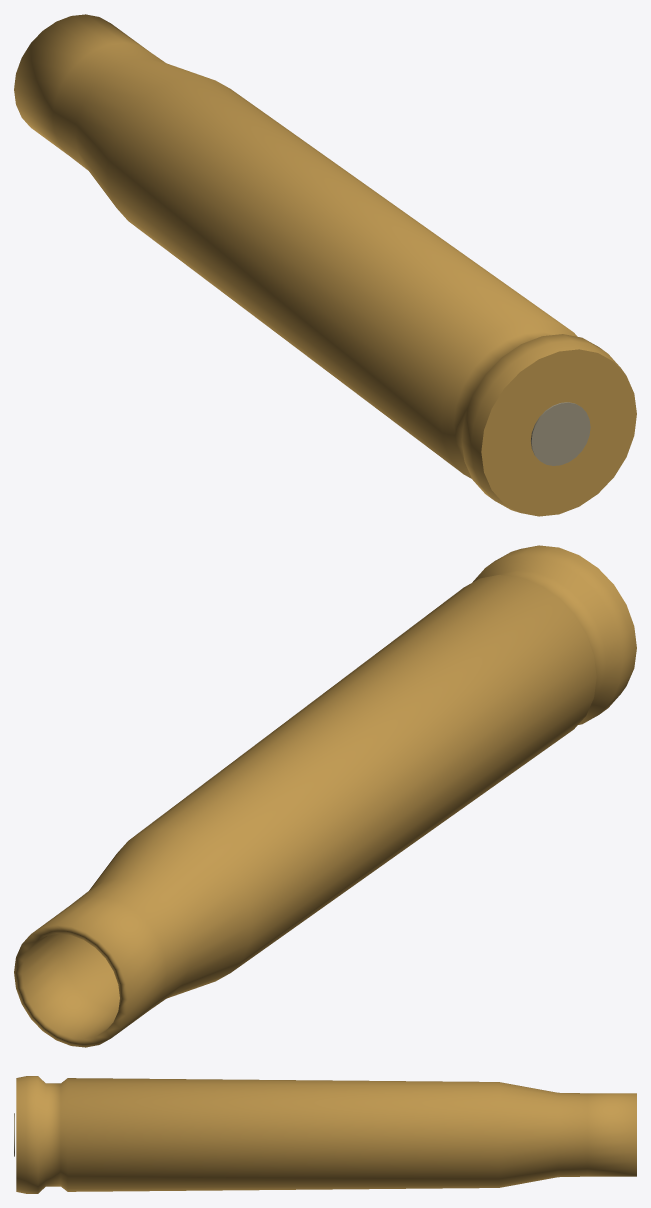
The model's file is EjectedCase792.glb.
3 views of the same model, one above another, from view 1: azimuth 30°, elevation 25°; view 2: azimuth 150°, elevation 25°; view 3: azimuth 270°, elevation 25° (orthographic). The views are drawn at different scales.
Visible parts, largest first — view 1: EmptyBrassCase, SpentPrimer; view 2: EmptyBrassCase; view 3: EmptyBrassCase.
Part boxes in pixels (x1,y1,x2,y2): EmptyBrassCase: [14, 14, 636, 516]; SpentPrimer: [531, 402, 590, 465]; EmptyBrassCase: [14, 545, 636, 1047]; EmptyBrassCase: [16, 1076, 636, 1193].
Size of the model in its own units: 0.012 by 0.012 by 0.0633.
